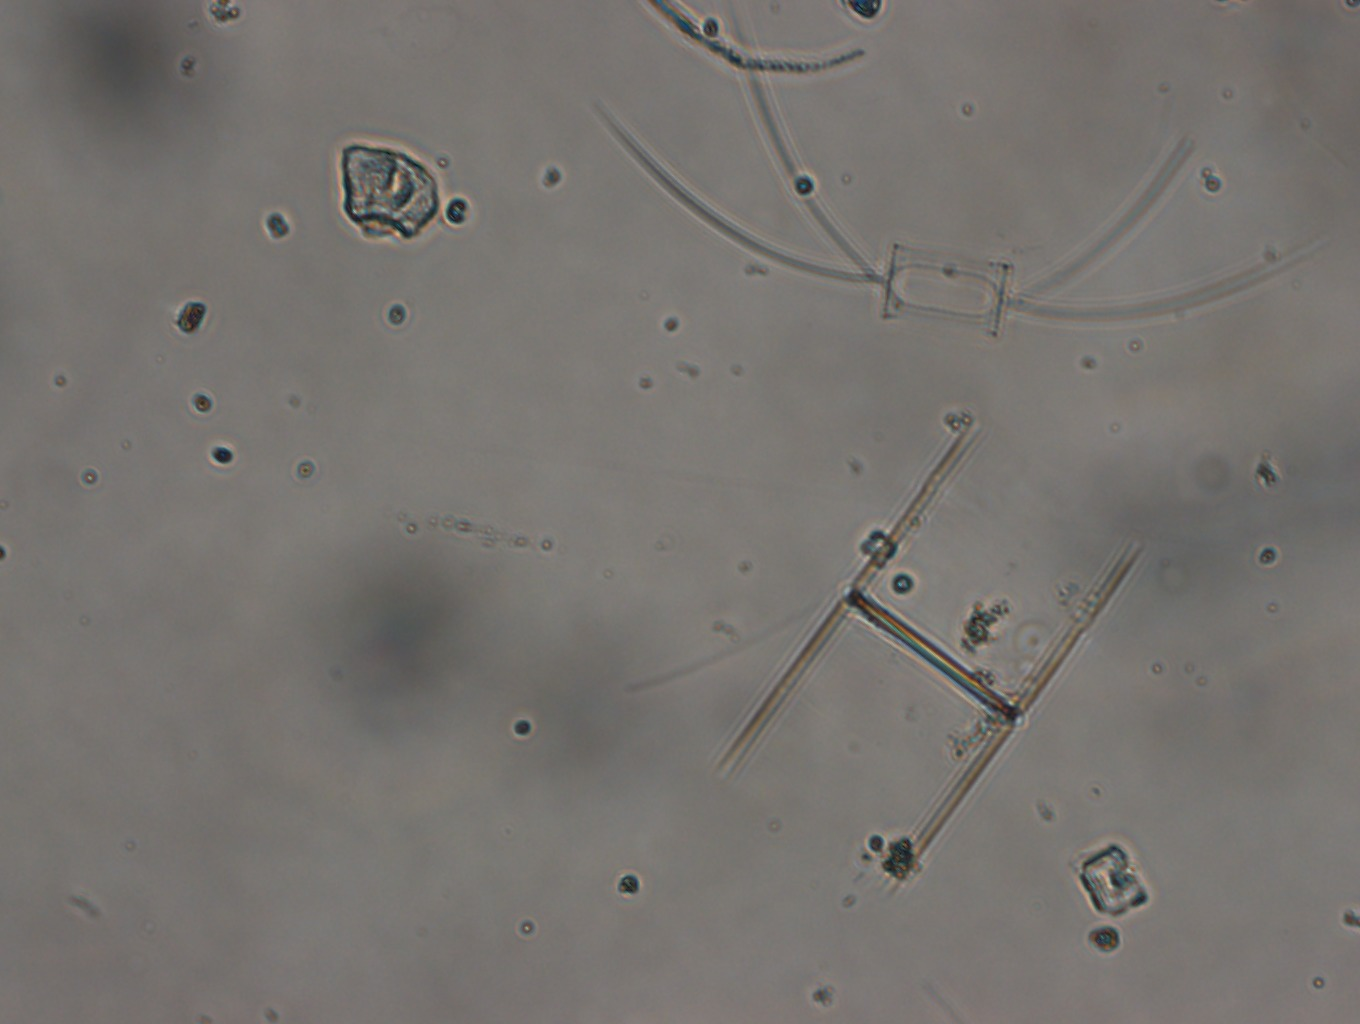chaetoceros: (599, 10, 1326, 330)
guinardia flaccida: (714, 438, 1145, 851)
